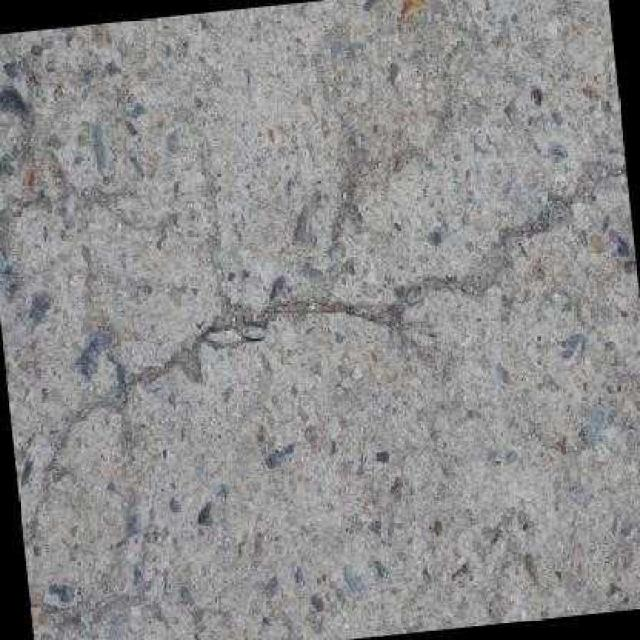D00: (29, 153, 626, 504)
